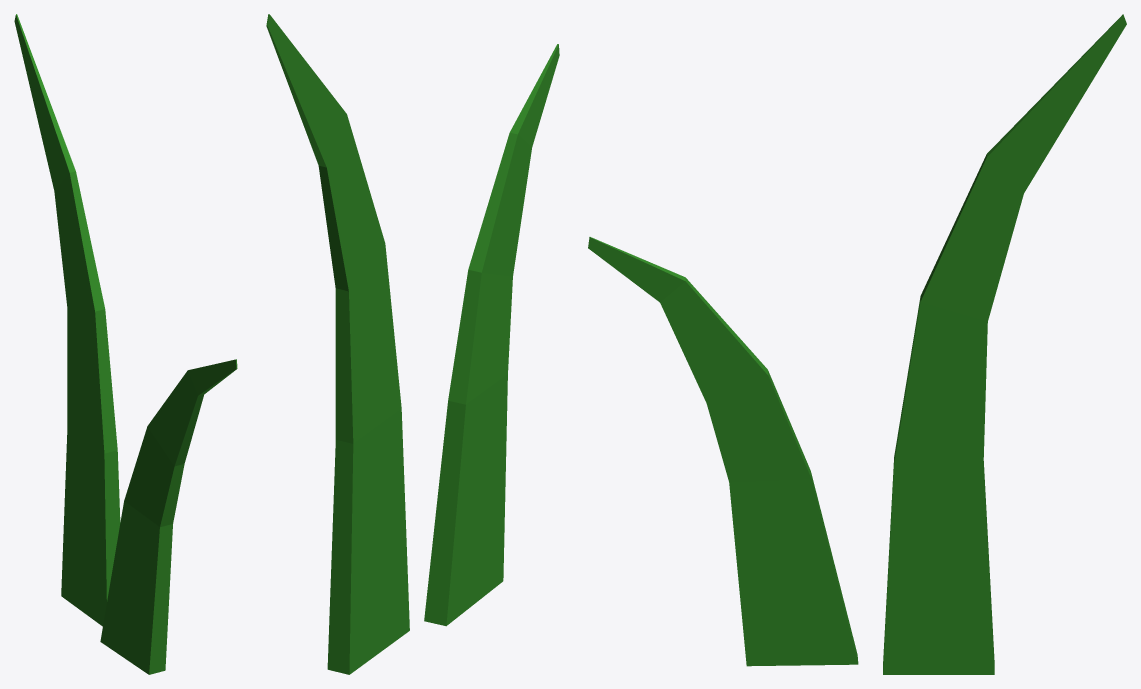
File: ForestGrass(4).fbx
3 views of the same model, side by side, from view 1: azimuth 30°, elevation 25°; view 2: azimuth 150°, elevation 25°; view 3: azimuth 270°, elevation 25° (orthographic). The views are drawn at different scales.
Visible parts, largest first — view 1: Grass(4); view 2: Grass(4); view 3: Grass(4).
Boxes of the visible parts, x1,y1,x2,y2 form: Grass(4): [14, 14, 237, 674]; Grass(4): [266, 14, 559, 674]; Grass(4): [588, 14, 1126, 674].
Bounding box in the file's own units: 0.0402 × 0.6097 × 0.454.
